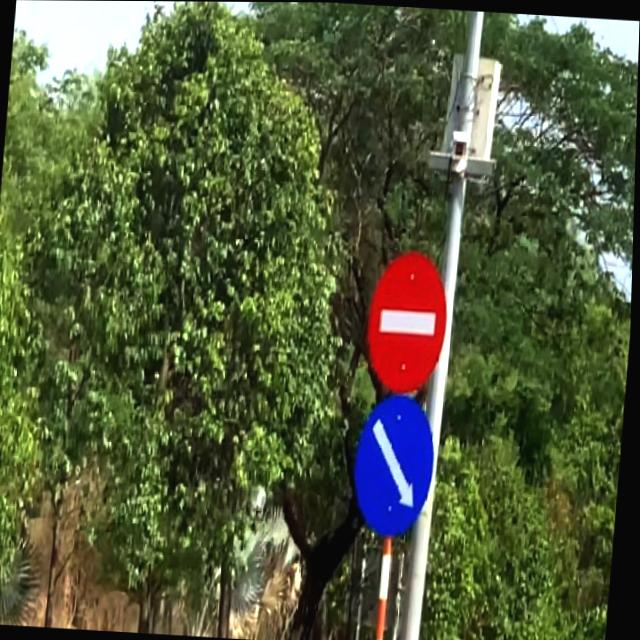Cam di nguoc chieu: (364, 246, 454, 395)
Vong chuong ngai vat sang phai: (352, 392, 442, 540)
